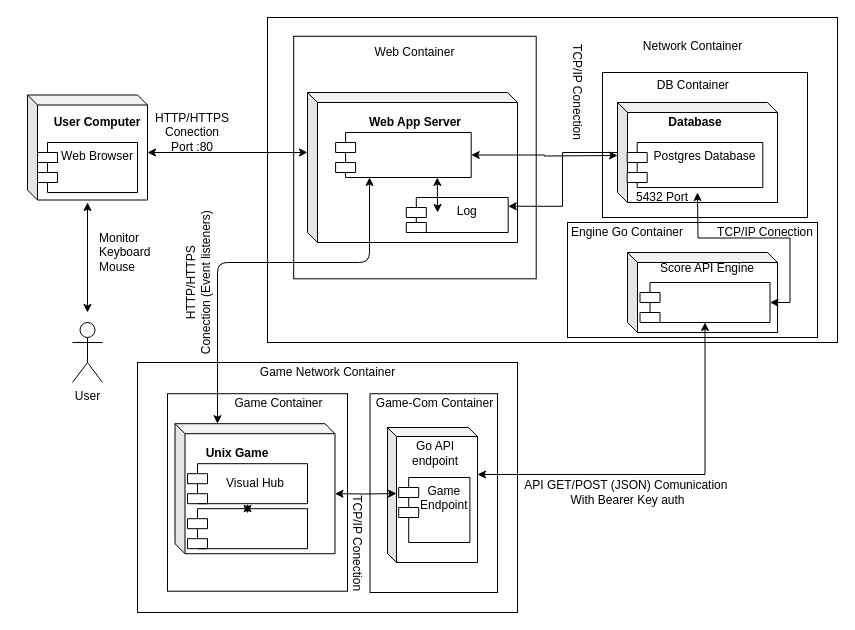
Image size: 855x630. Some labels were removed from this diagram. Each missing label, with the box of its shape:
C# app: (186, 508, 308, 549)
Scores API Endpoint: (639, 282, 770, 322)
Web User Interface: (335, 132, 471, 178)
